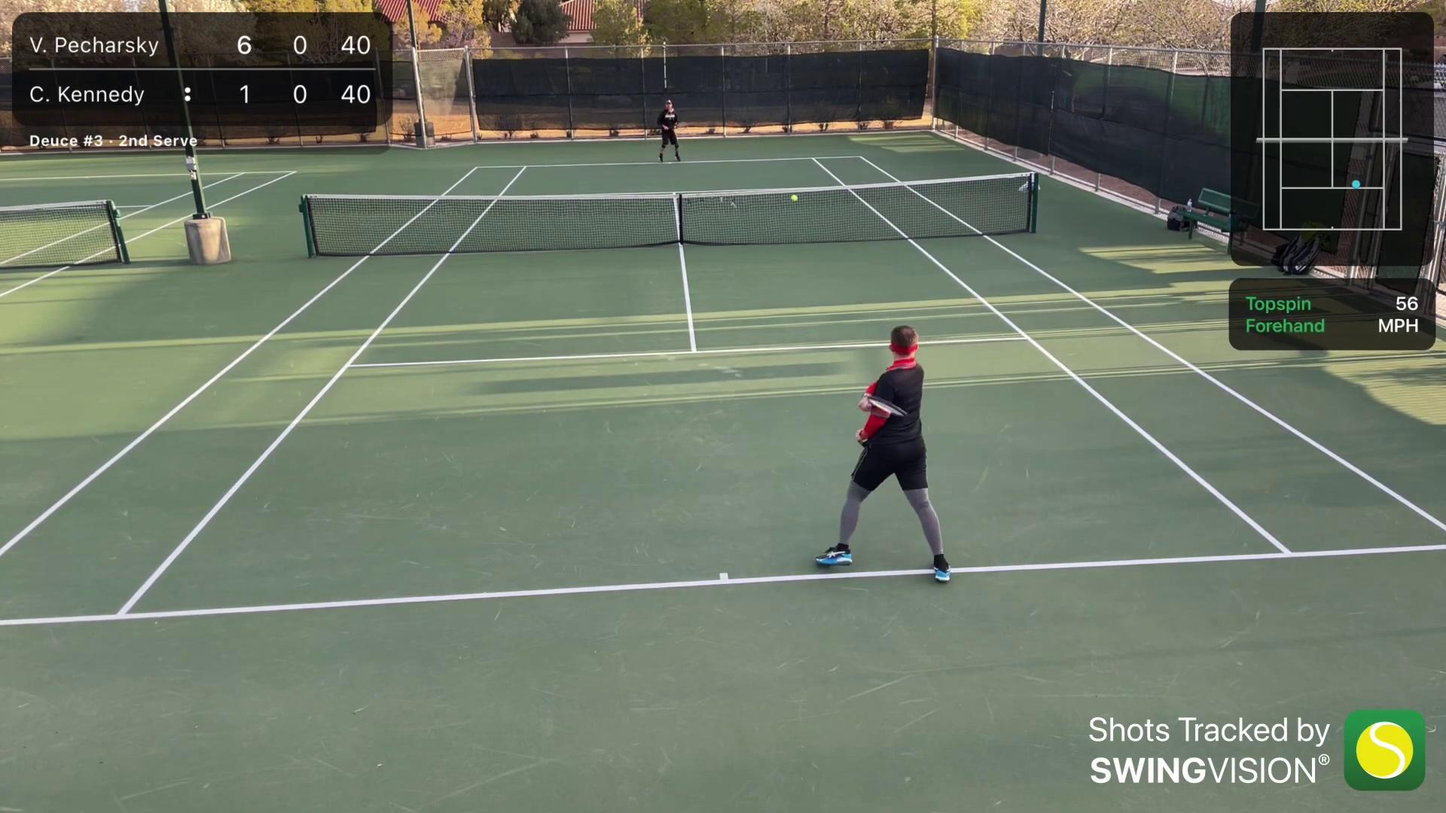ball: (789, 193, 801, 202)
